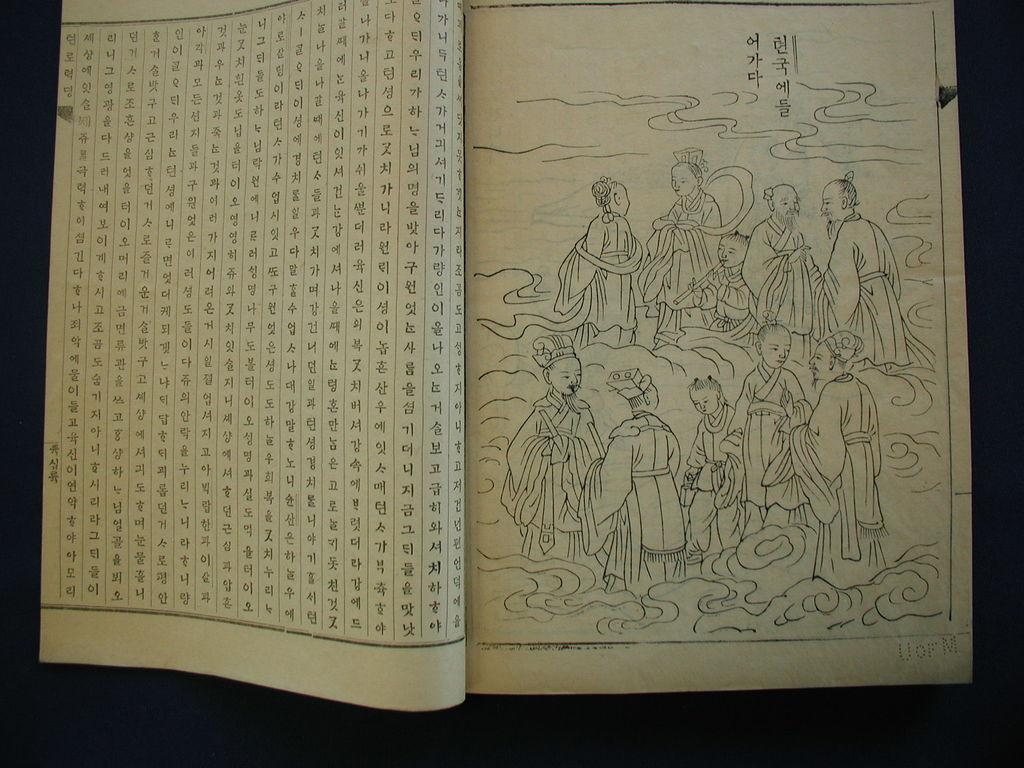Book: (35, 0, 986, 711)
Computer-keyboard: (37, 0, 467, 712)
